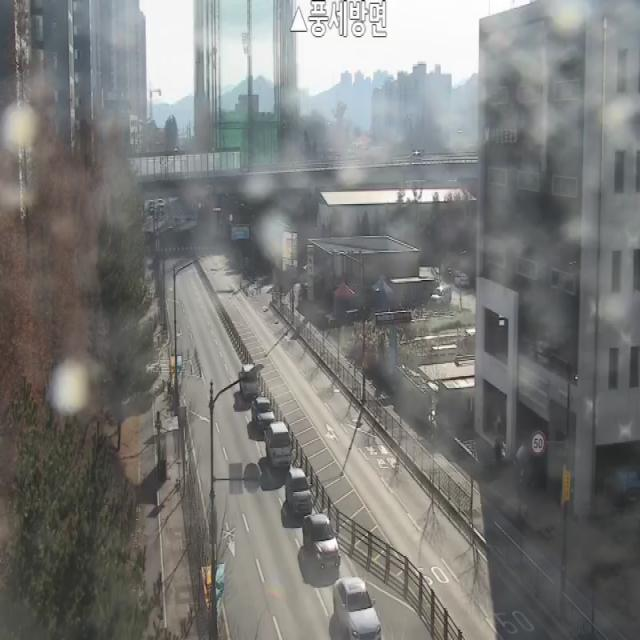Car: (334, 577, 382, 640), (303, 514, 341, 571), (264, 422, 293, 471), (285, 468, 312, 516), (252, 396, 275, 431), (239, 364, 258, 402), (430, 284, 452, 304)
